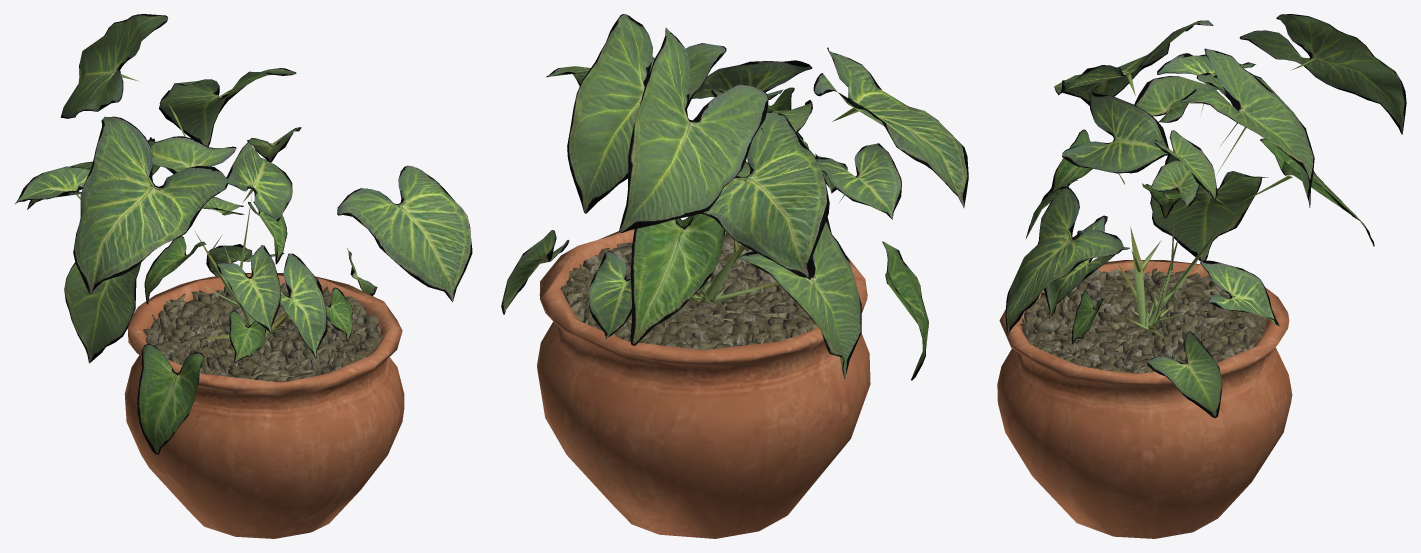
The model's file is potted_plant_02.c46f5b68.glb.
The picture shows the model from 3 angles, left to right: view 1: azimuth 30°, elevation 25°; view 2: azimuth 150°, elevation 25°; view 3: azimuth 270°, elevation 25°; orthographic projection. The views are drawn at different scales.
Visible parts, largest first — view 1: potted_plant_02_leaves, potted_plant_02_pot, potted_plant_02_dirt; view 2: potted_plant_02_leaves, potted_plant_02_pot, potted_plant_02_dirt; view 3: potted_plant_02_leaves, potted_plant_02_pot, potted_plant_02_dirt.
Boxes of the visible parts, x1,y1,x2,y2 form: potted_plant_02_leaves: (15,14,472,454); potted_plant_02_pot: (124,273,404,538); potted_plant_02_dirt: (143,283,383,381); potted_plant_02_leaves: (501,14,968,380); potted_plant_02_pot: (537,229,870,538); potted_plant_02_dirt: (560,232,817,349); potted_plant_02_leaves: (1005,14,1406,418); potted_plant_02_pot: (997,260,1292,538); potted_plant_02_dirt: (1020,268,1266,373).
Size of the model in its own units: 0.7009 by 0.8406 by 0.6561.
Materials: 2 (2 with a texture image).
